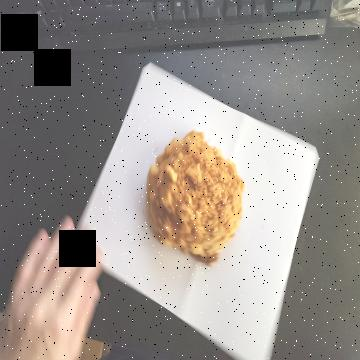soboru_bread: (146, 129, 246, 269)
